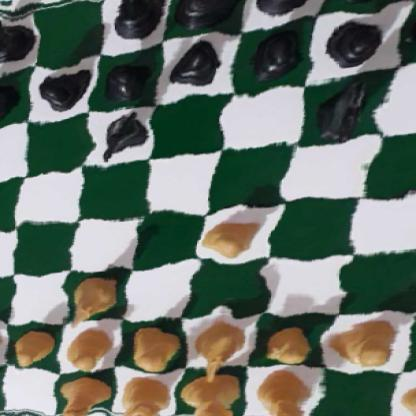black-bishop: (105, 0, 173, 44), (331, 0, 416, 4)
black-king: (244, 0, 334, 25)
black-knight: (305, 74, 382, 146), (97, 109, 151, 158)
black-pawn: (322, 3, 400, 67), (243, 18, 311, 80), (166, 30, 226, 93), (37, 60, 95, 111), (100, 51, 154, 104), (0, 76, 16, 120), (414, 0, 416, 51)
black-queen: (168, 0, 245, 39)
black-rook: (0, 5, 33, 73)
white-bishop: (247, 372, 317, 416), (61, 372, 114, 416)
white-king: (183, 369, 245, 416)
white-knight: (182, 321, 249, 381), (64, 271, 124, 324)
white-pawn: (331, 318, 405, 369), (200, 213, 266, 258), (257, 320, 323, 364), (122, 326, 182, 368), (65, 327, 112, 372), (9, 330, 55, 367), (410, 317, 416, 369)
white-queen: (112, 371, 181, 416)
white-rook: (396, 371, 416, 416)
